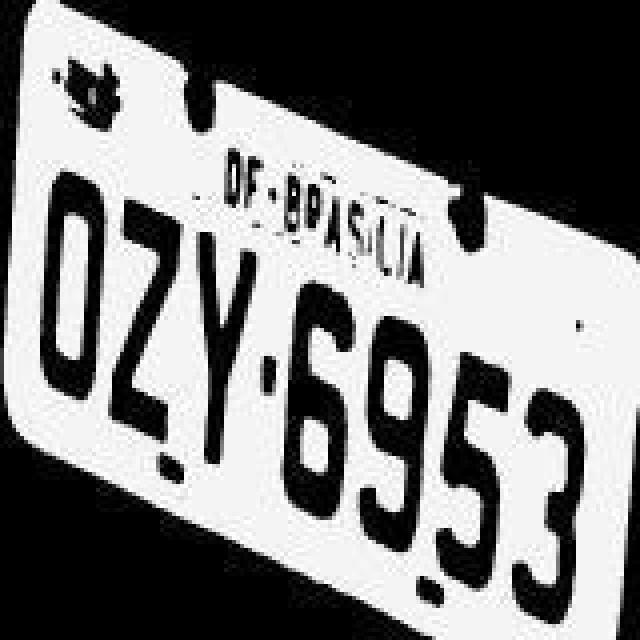3: (514, 386, 590, 622)
5: (434, 350, 510, 594)
6: (282, 278, 358, 522)
9: (354, 320, 430, 552)
O: (32, 164, 112, 404)
Y: (190, 222, 258, 474)
Z: (106, 194, 182, 446)
